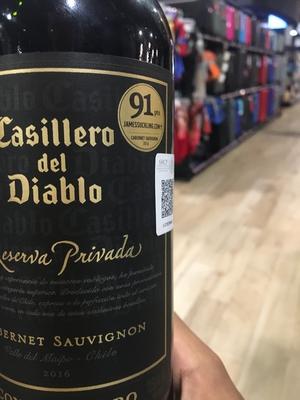casillero del diablo reserva privada cabernet sauvignon: (1, 2, 187, 395)
